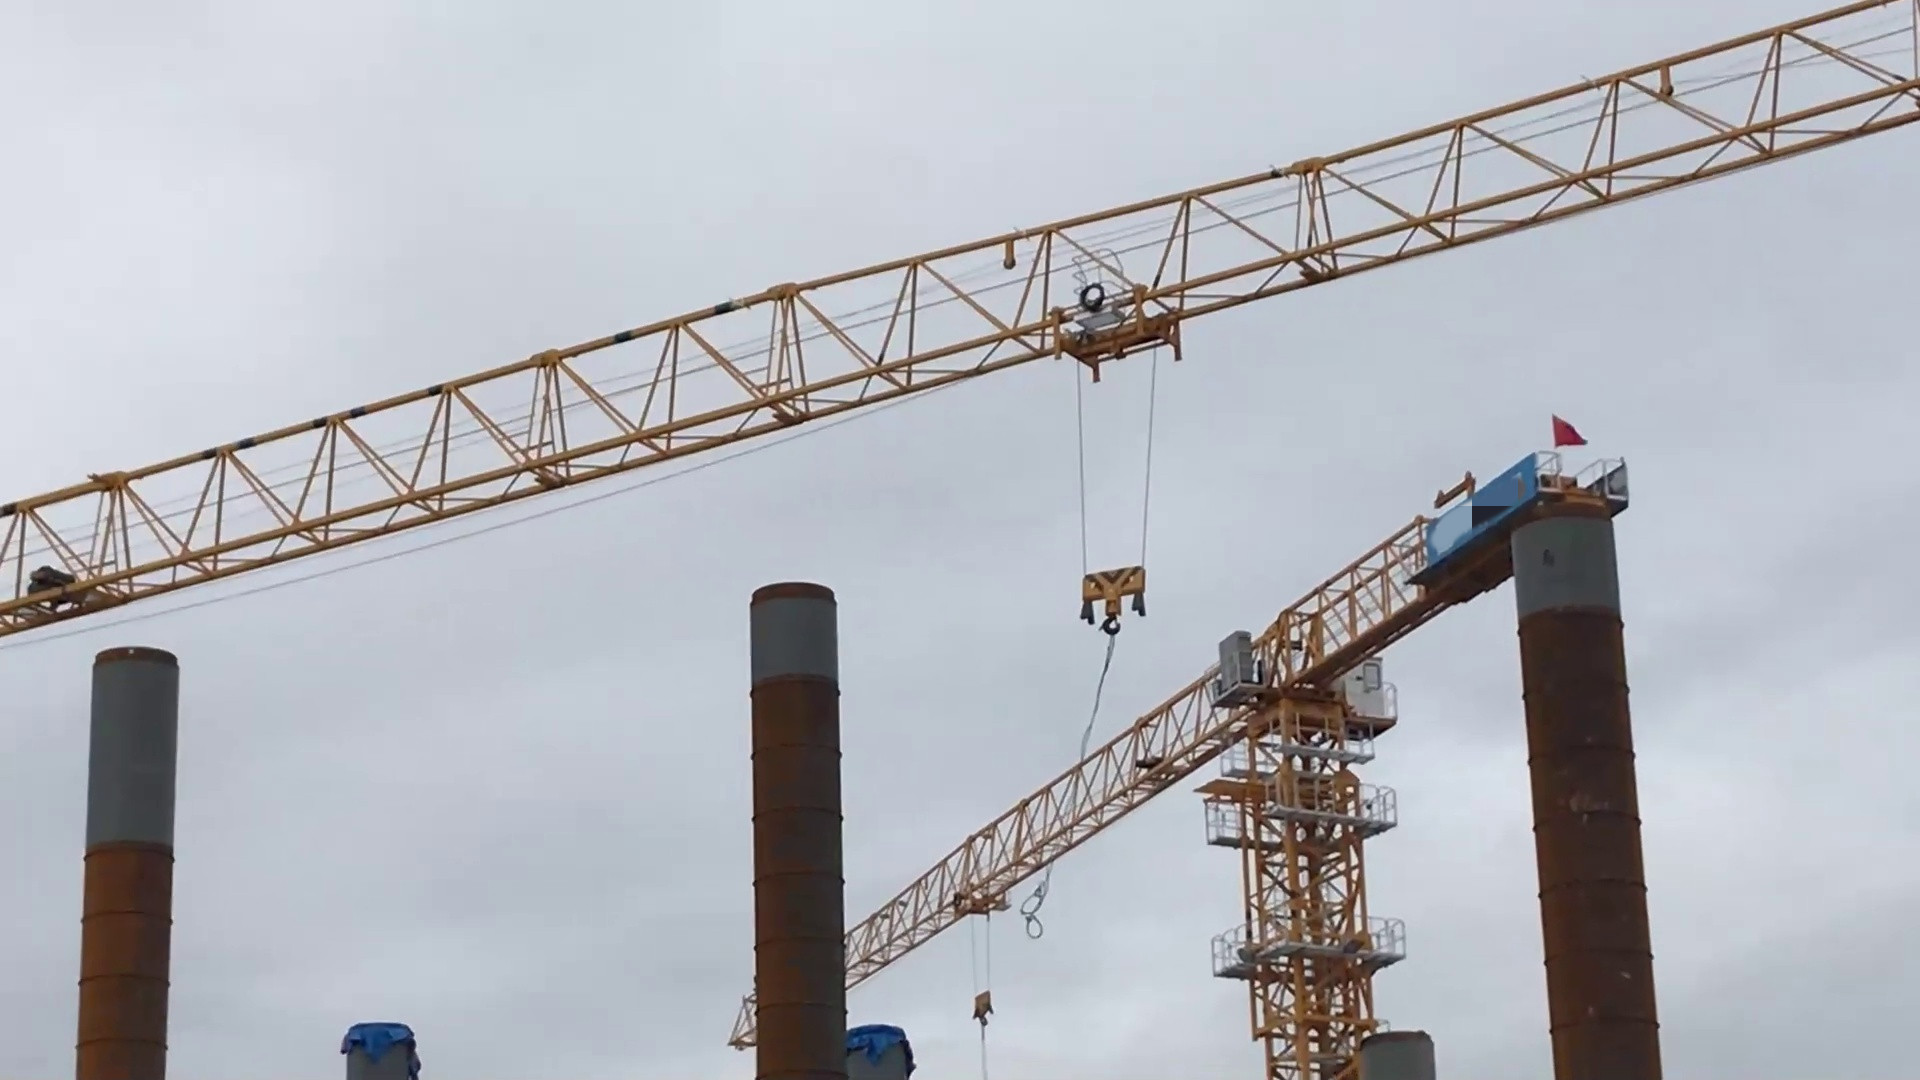hook: (1063, 553, 1167, 654)
